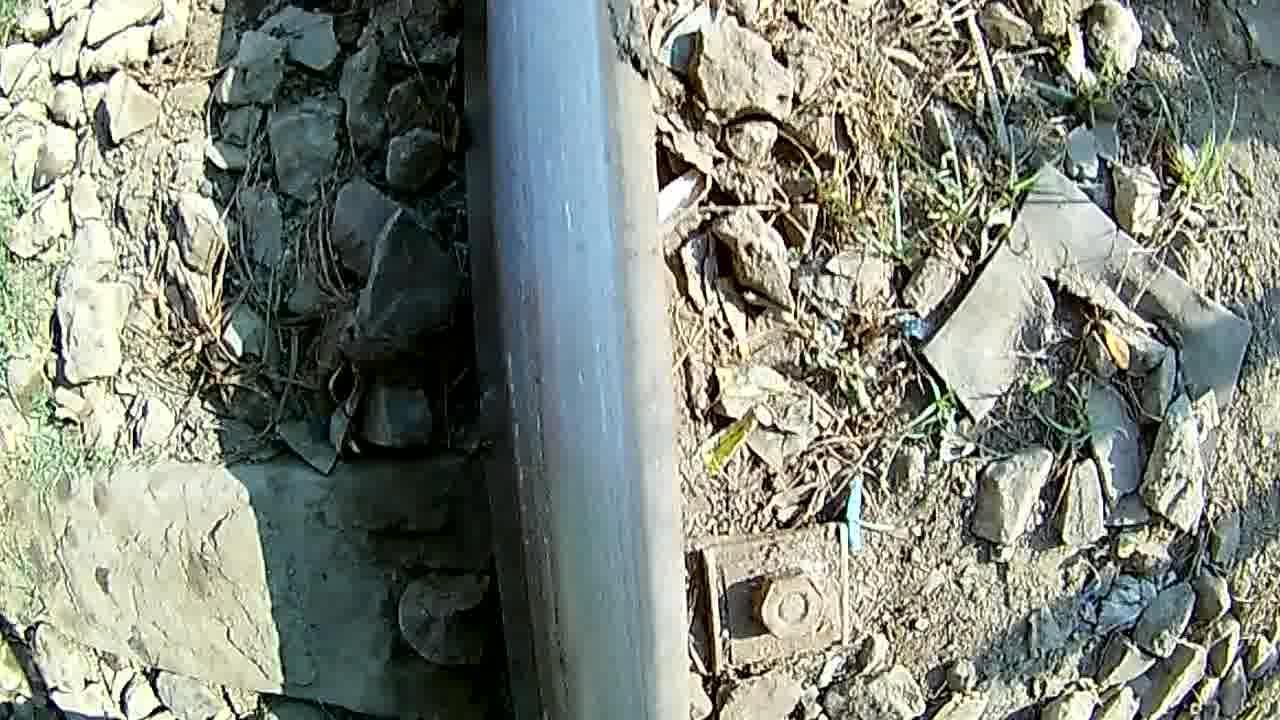crack: (490, 0, 670, 720)
